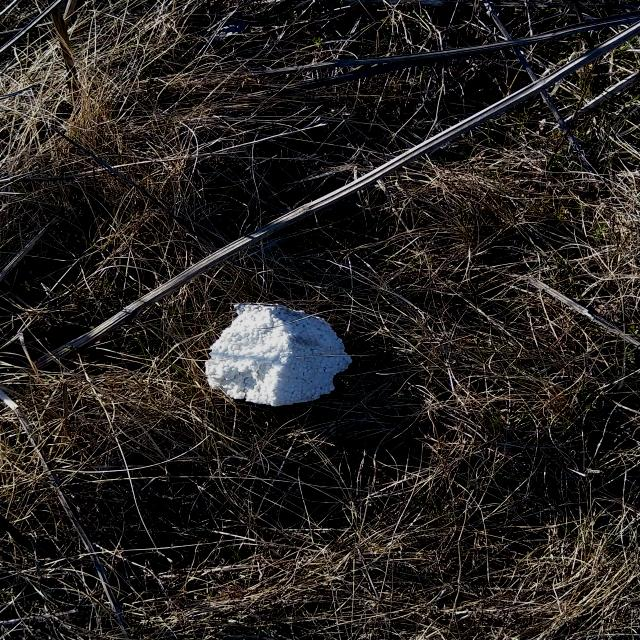Styrofoam piece: (205, 303, 352, 406)
